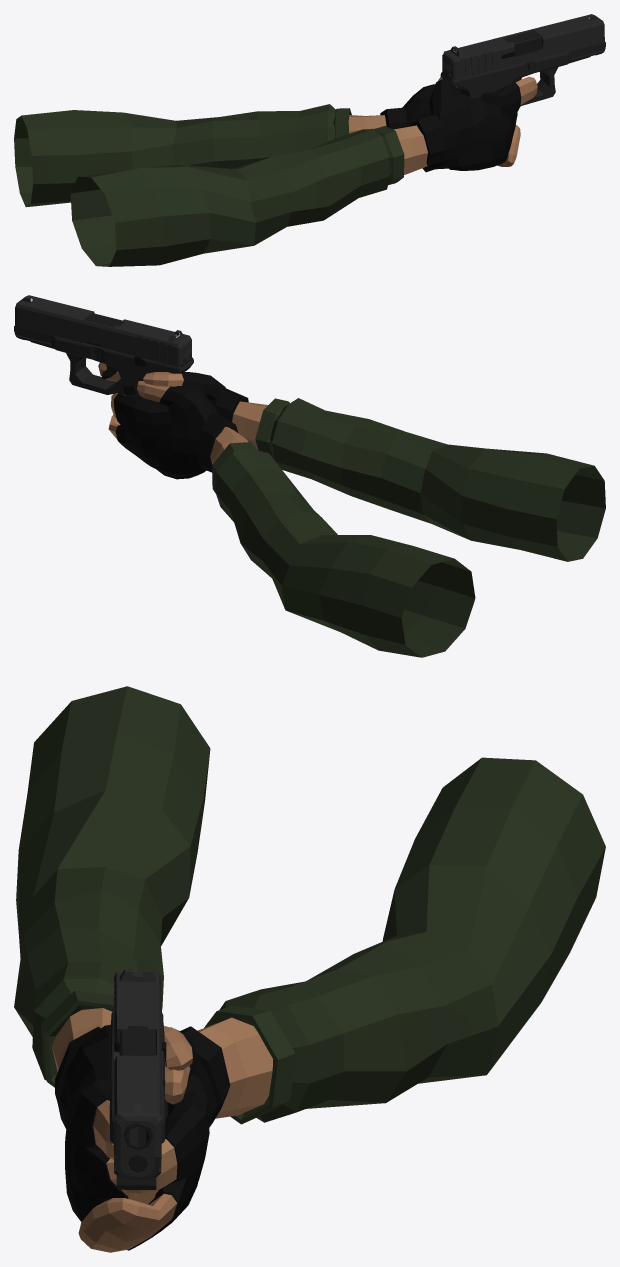
File: armapistola.obj
The picture shows the model from 3 angles, top to bottom: view 1: azimuth 30°, elevation 25°; view 2: azimuth 150°, elevation 25°; view 3: azimuth 270°, elevation 25°; orthographic projection. The views are drawn at different scales.
Parts seen in each view (by area): view 1: ArmModel.001, Glock19; view 2: ArmModel.001, Glock19; view 3: ArmModel.001, Glock19.
Part boxes in pixels (x1=…): ArmModel.001: x1=14, y1=76, x2=537, y2=266; Glock19: x1=440, y1=14, x2=605, y2=169; ArmModel.001: x1=98, y1=362, x2=605, y2=657; Glock19: x1=14, y1=295, x2=193, y2=402; ArmModel.001: x1=14, y1=686, x2=605, y2=1252; Glock19: x1=109, y1=969, x2=168, y2=1189.
Bounding box in the file's own units: 14.38 × 4 × 7.24.
